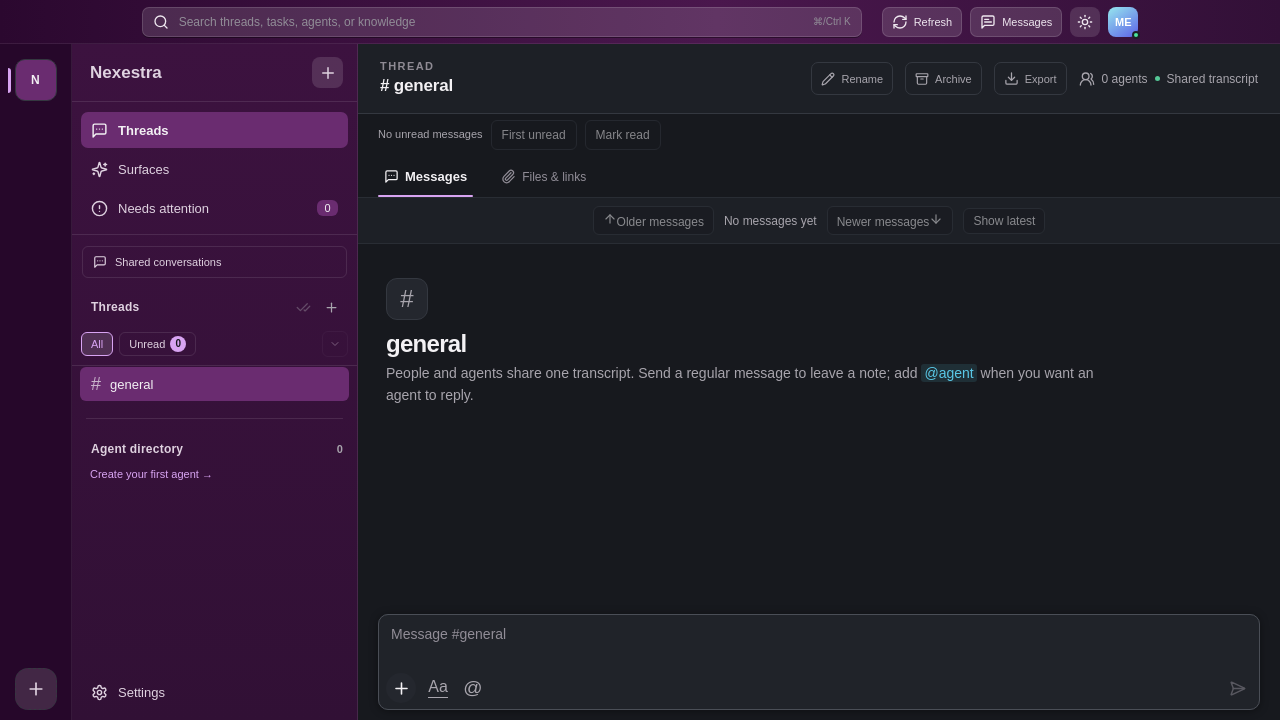
Test: Submission timing › keeps Files & links open when an in-flight send completes
Type "Send while browsing" into the dropdown labelled "Message" at [819, 642], box [379,615,1259,669]
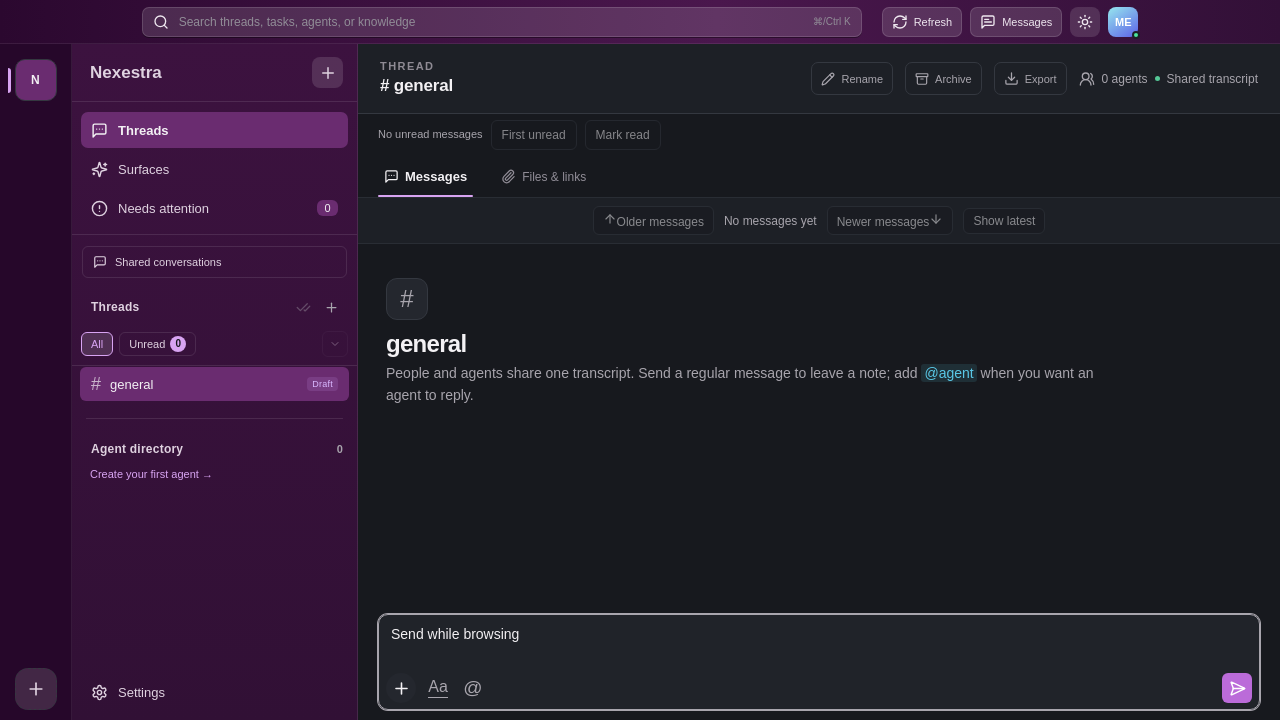
Click the button named "Send" at [1237, 688], box [1222,673,1252,703]
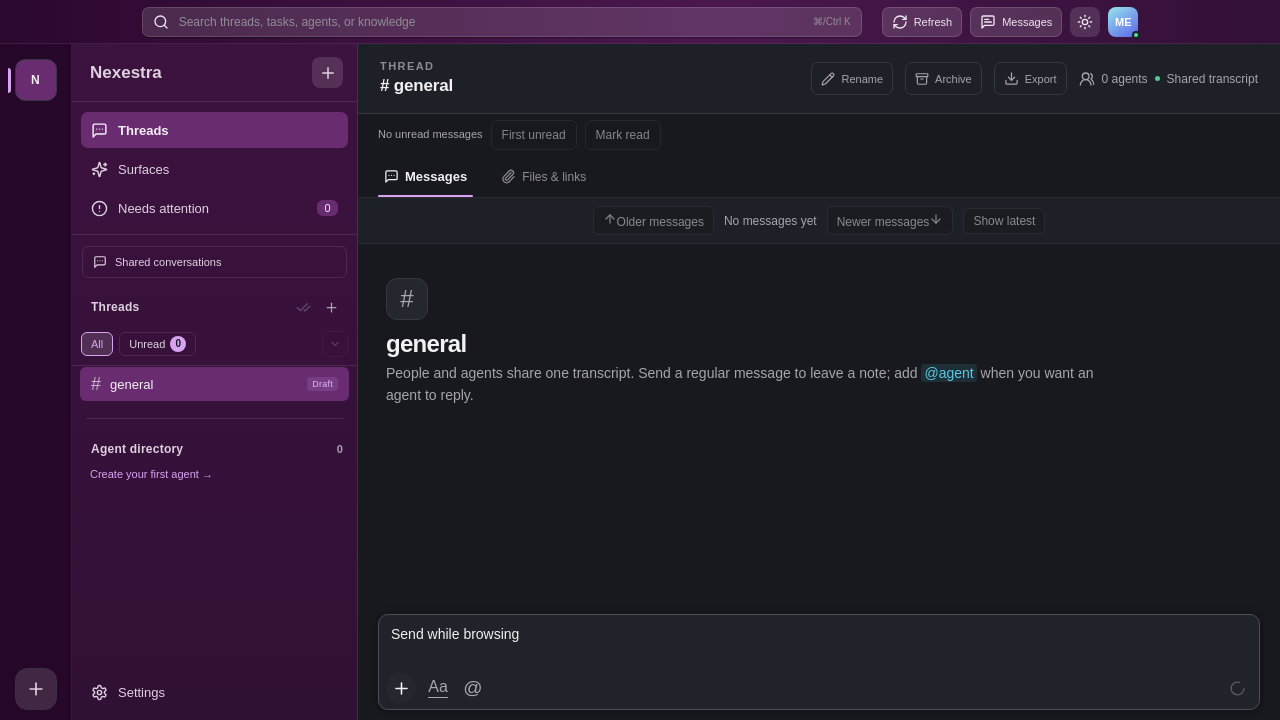
Click the button "Files & links" at [544, 176], box [495,156,592,197]
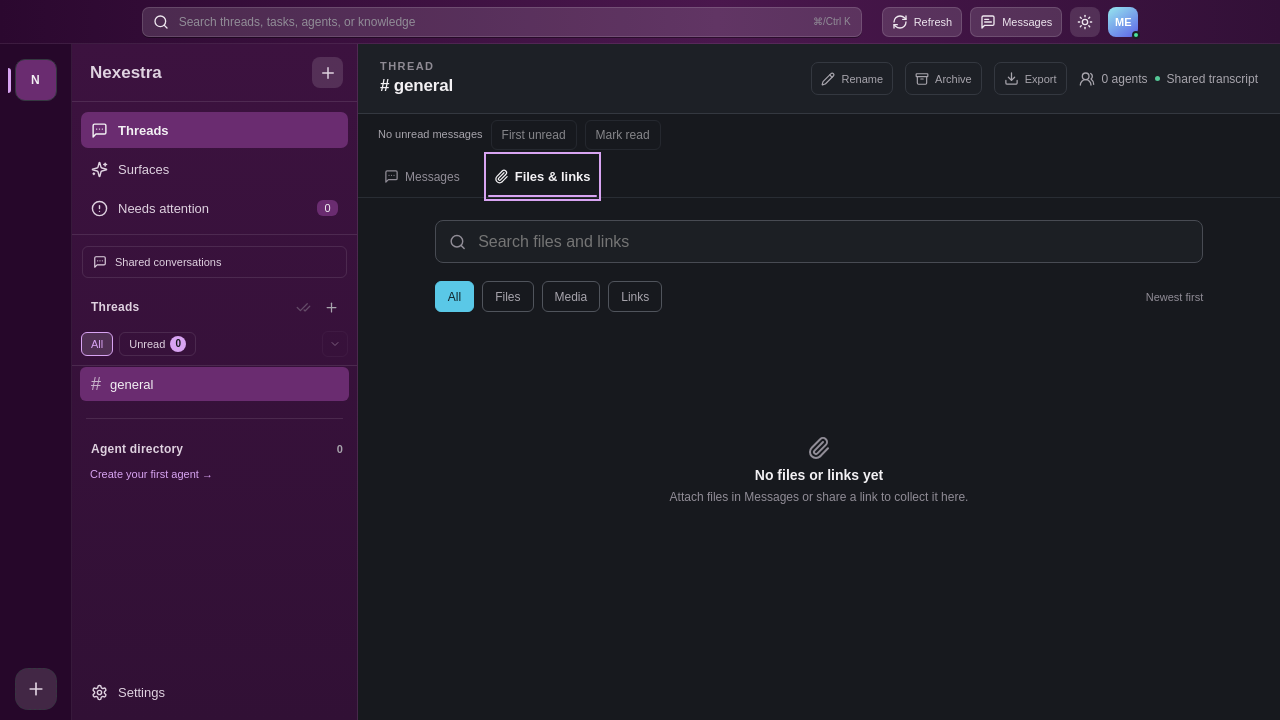
Expected: the text "No files or links yet" is shown, [755,467,883,483]
